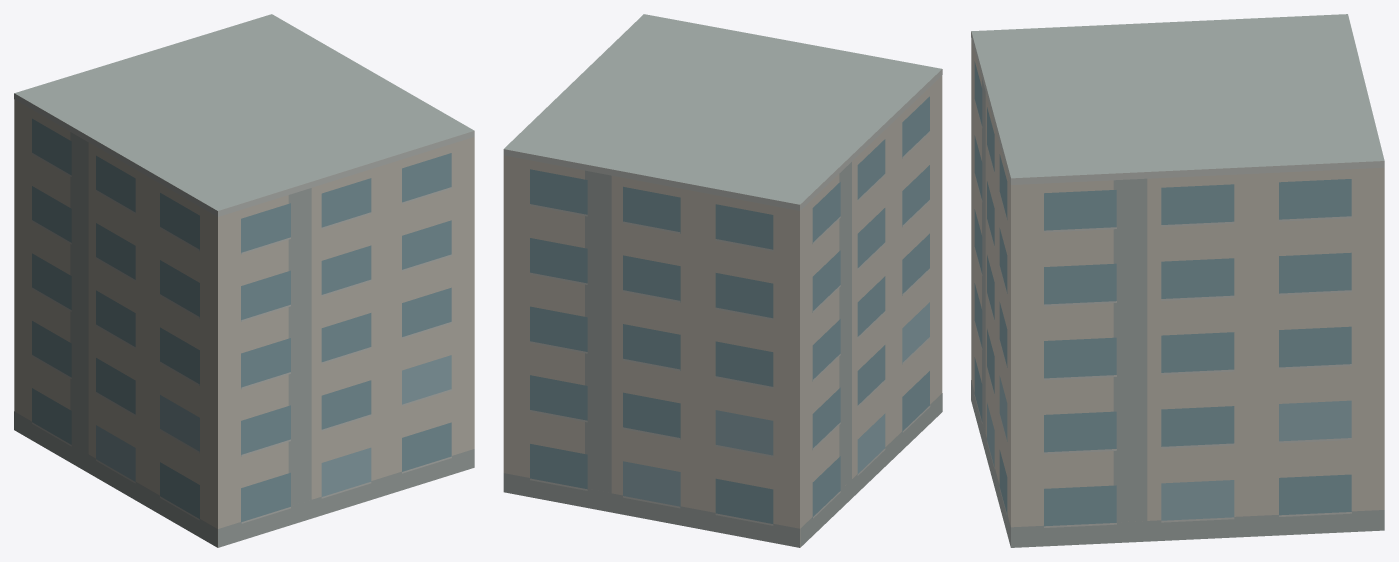
File: survey-upis-32951760.glb
The picture shows the model from 3 angles, left to right: view 1: azimuth 30°, elevation 25°; view 2: azimuth 150°, elevation 25°; view 3: azimuth 270°, elevation 25°; orthographic projection. The views are drawn at different scales.
Visible parts, largest first — view 1: survey-upis-32951760.tmp; view 2: survey-upis-32951760.tmp; view 3: survey-upis-32951760.tmp.
Boxes of the visible parts, left/top/right/bottom form: survey-upis-32951760.tmp: left=14, top=14, right=474, bottom=547; survey-upis-32951760.tmp: left=503, top=14, right=942, bottom=547; survey-upis-32951760.tmp: left=971, top=14, right=1384, bottom=547.
Size of the model in its own units: 12.84 by 13.45 by 13.65.
